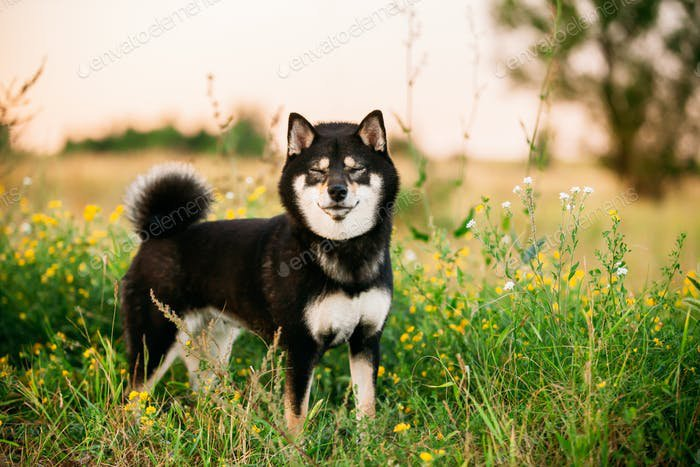dog: (106, 98, 409, 450)
